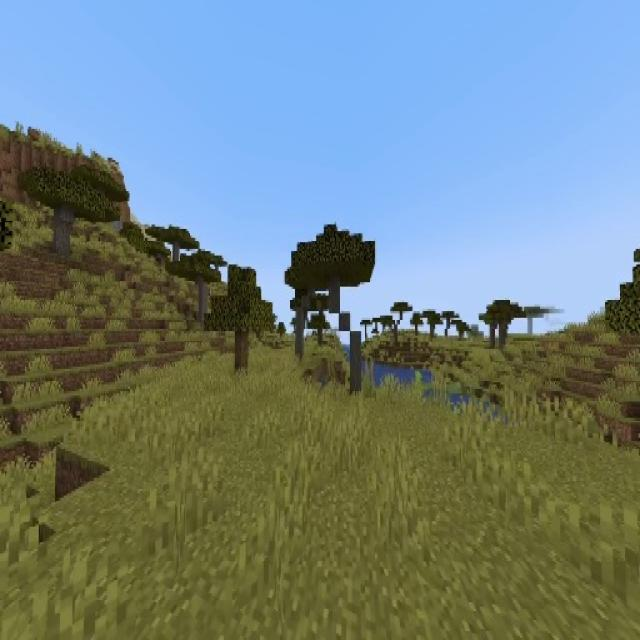acacia: (22, 164, 126, 254), (170, 255, 219, 325), (149, 221, 196, 277)
acacia_log: (350, 334, 362, 389), (56, 211, 72, 251), (328, 278, 340, 314), (338, 313, 350, 332)
oak: (287, 222, 376, 394), (210, 264, 275, 370)
oak_log: (235, 330, 249, 370)
